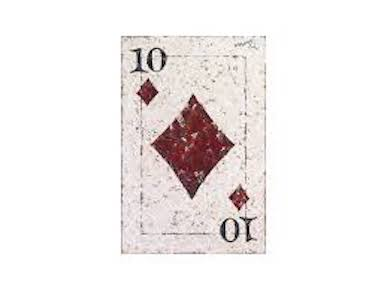TenOfDiamonds: (116, 27, 271, 261)
